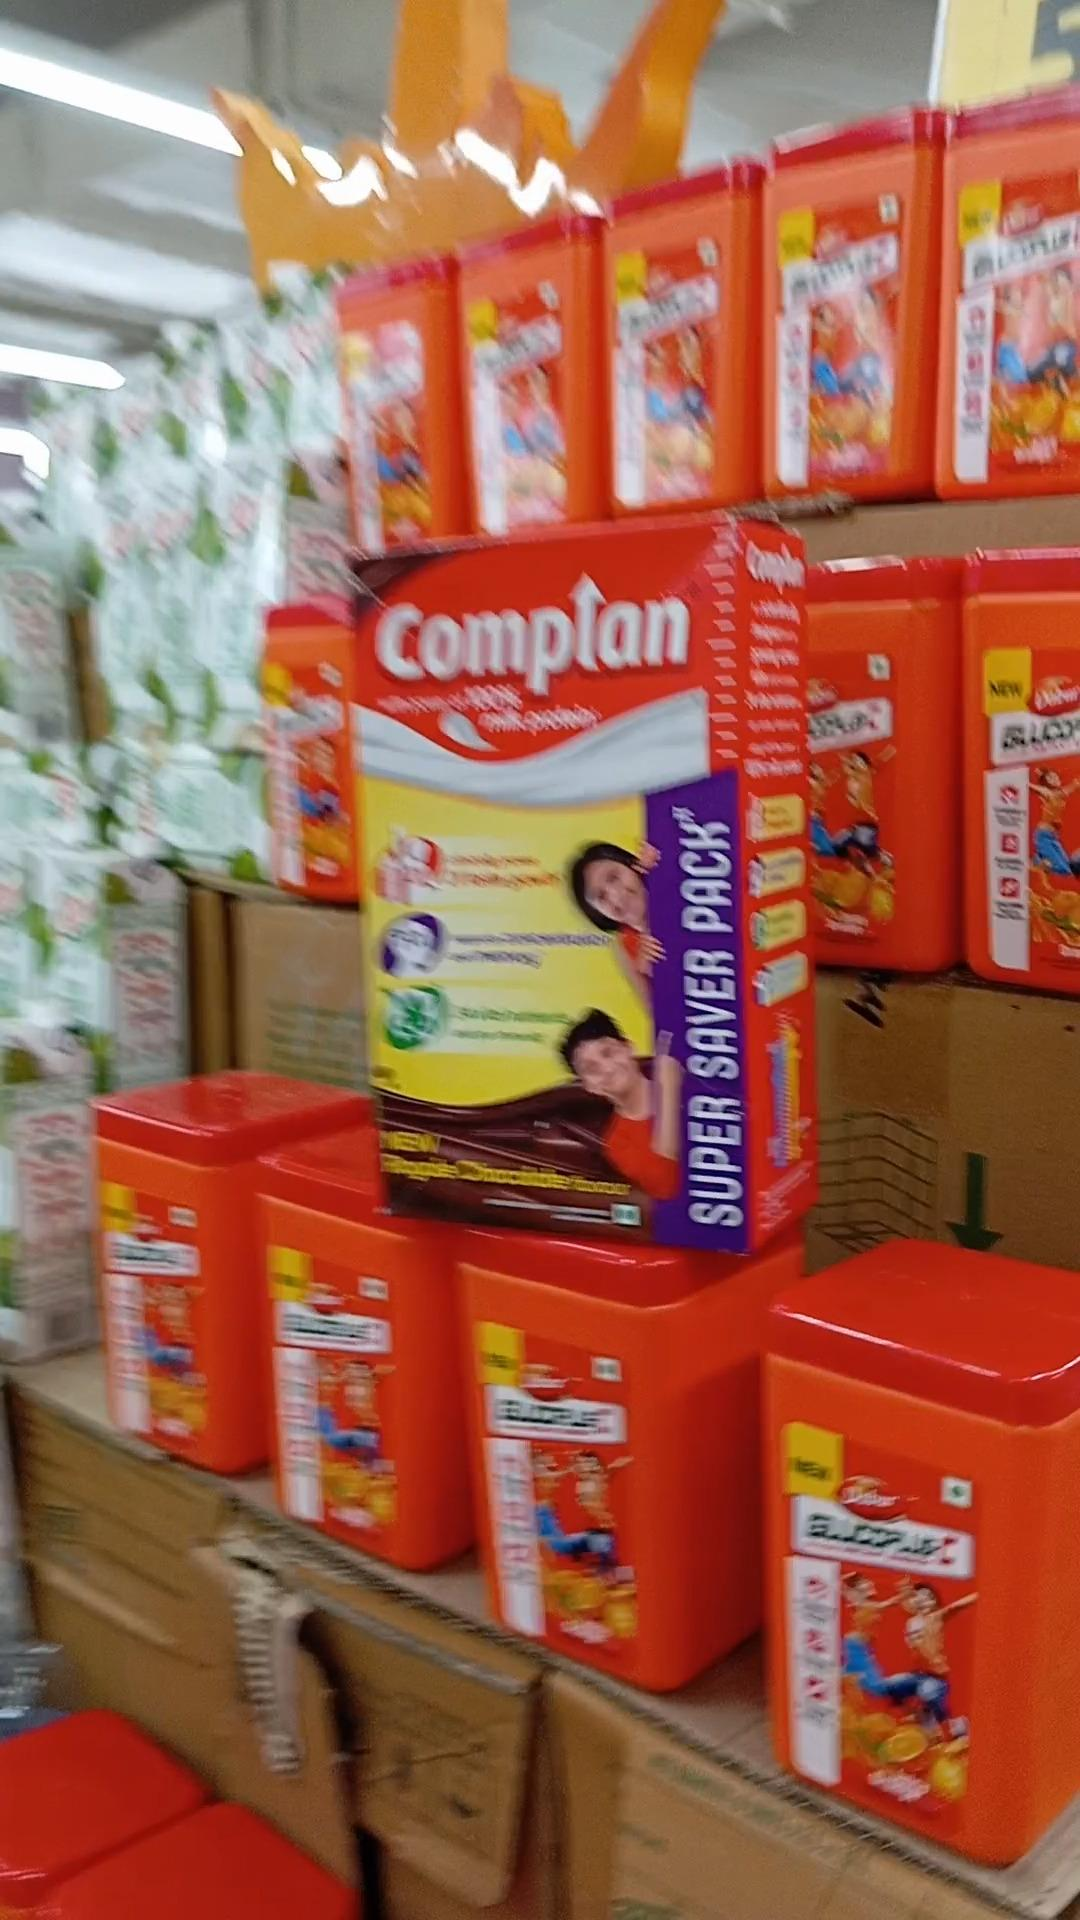COMPLAN_CHOCOLATE_1_KG_PACK: (363, 518, 752, 1246)
